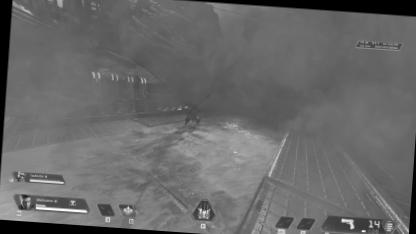Target: (184, 103, 202, 125)
